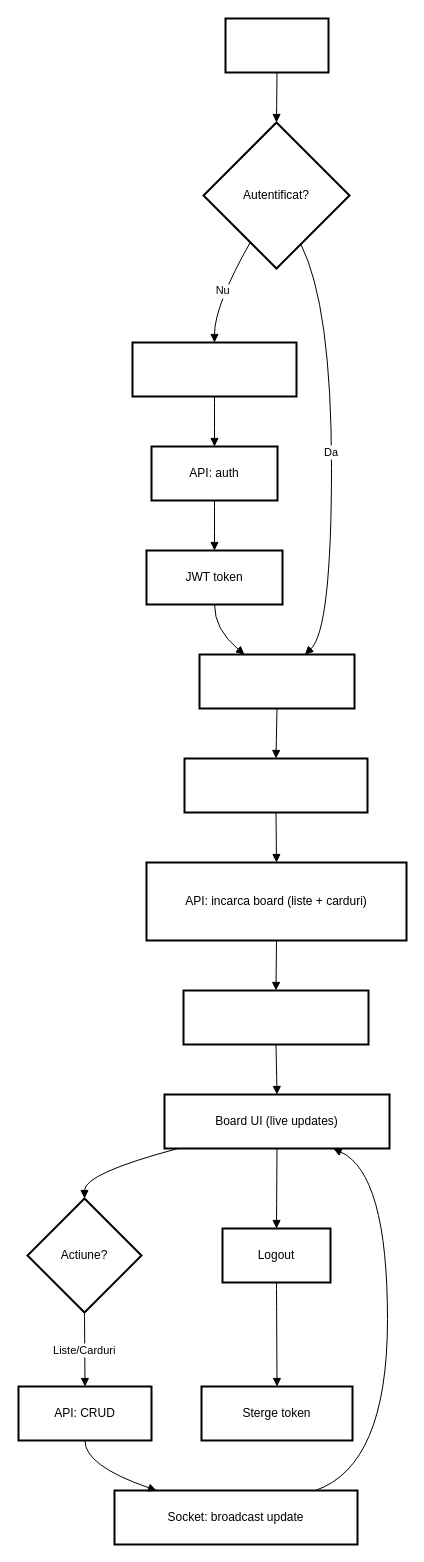
This 424x1562 diagram has some shape labels left out. Each missing label, with the centre of its shape:
Client: [276,45]
Conectare Socket: [275,1017]
Login/Register: [214,369]
Panou Boards: [276,681]
Selecteaza Board: [275,785]
